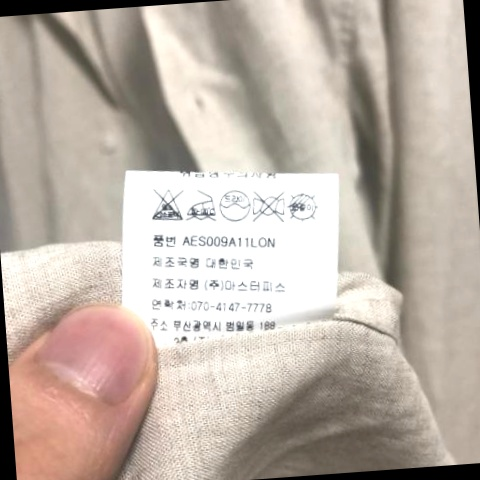DN_bleach: (151, 187, 188, 223)
DN_wring: (251, 187, 290, 225)
dry_clean: (219, 186, 252, 224)
iron_low: (186, 187, 220, 223)
line_dry_in_shade: (289, 191, 323, 225)
